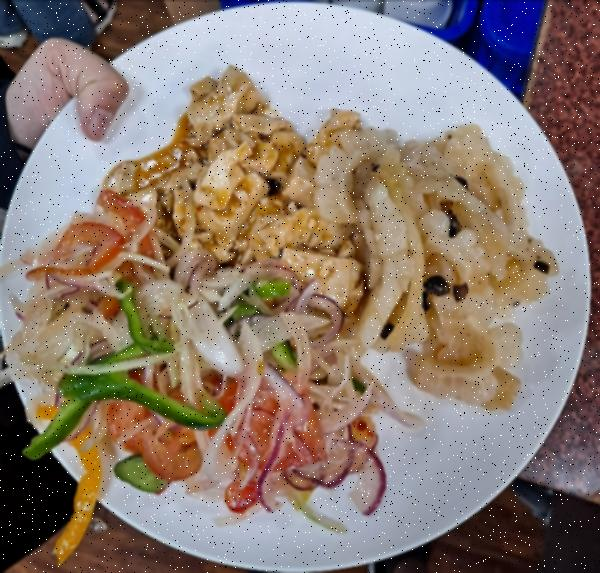plate: (5, 7, 592, 560)
side dish: (22, 269, 372, 529), (344, 117, 542, 409), (168, 75, 368, 267)
